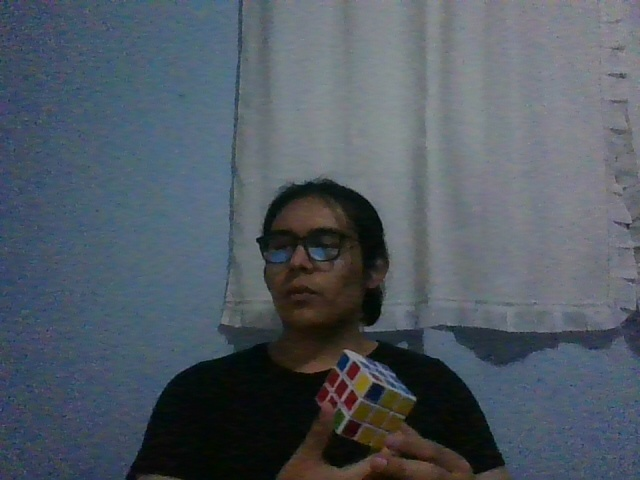rubik: (314, 349, 416, 450)
